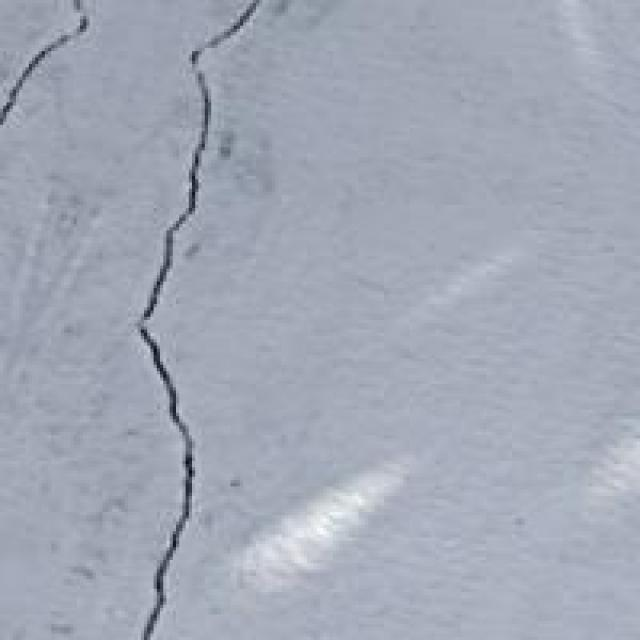crack: (3, 6, 282, 637)
